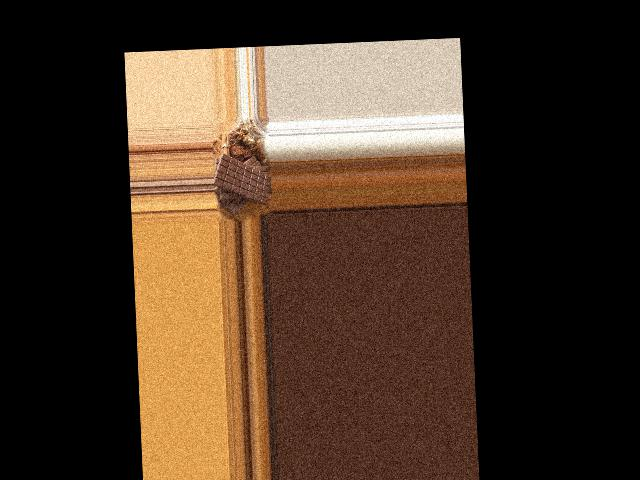chocolate: (212, 148, 270, 207)
